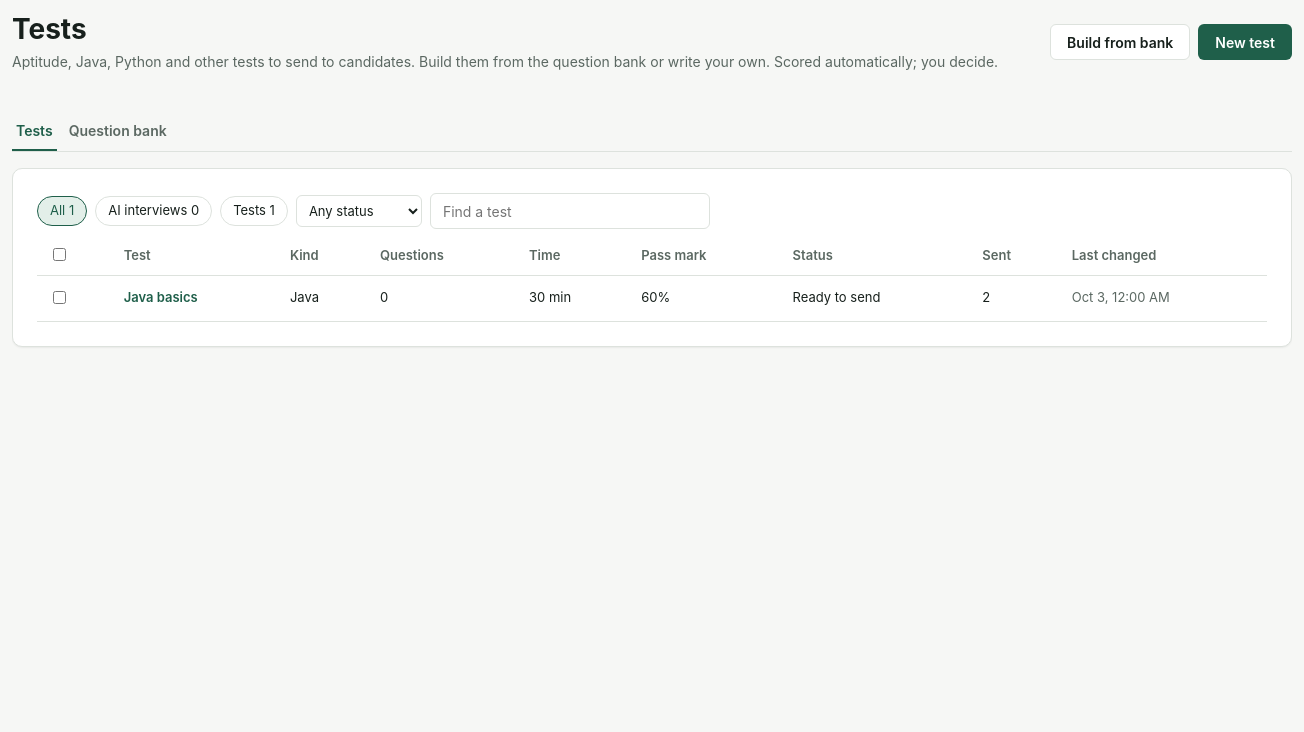
Scenario: TestsPage › hides Delete once someone has taken the test
Click the button "Java basics".
click(161, 297)  # box [124,288,198,307]
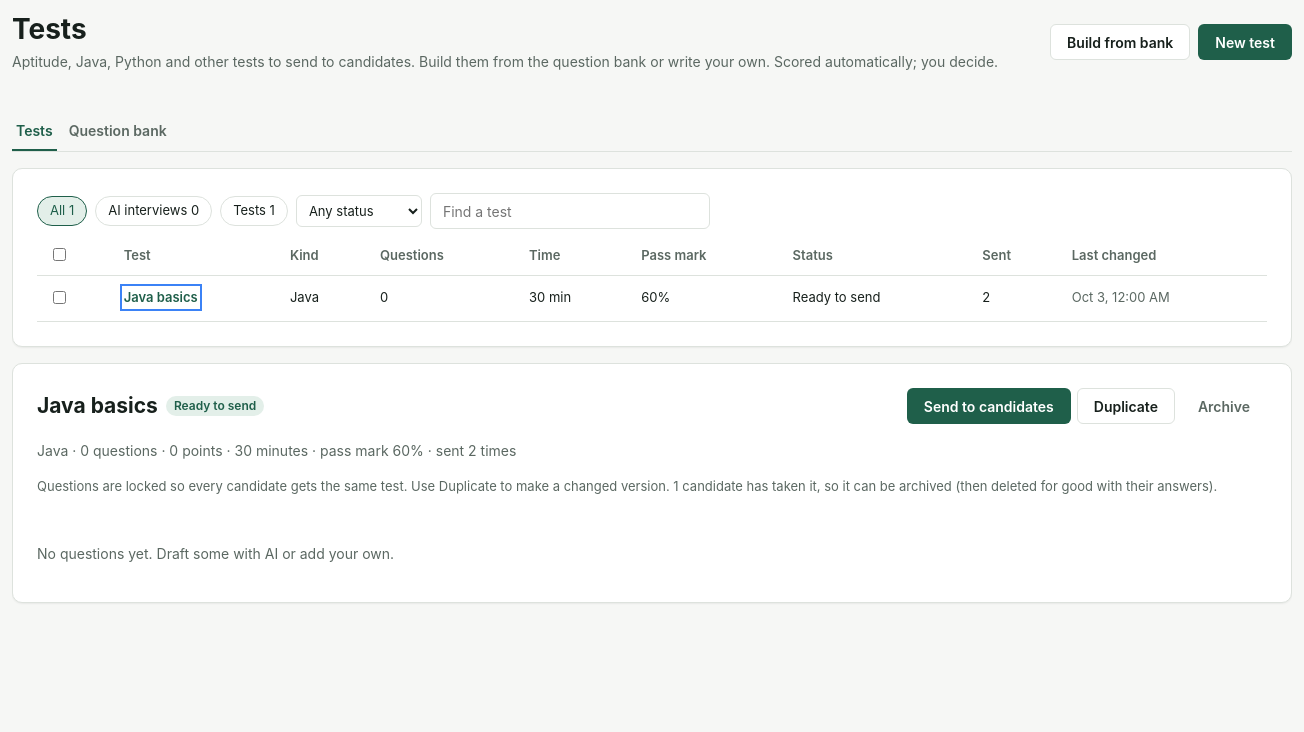
Now the text "1 candidate has taken it" is shown, box [670,478,1217,494]
